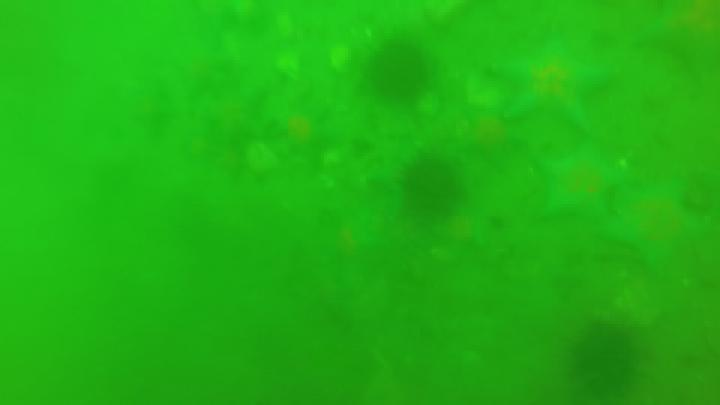echinus: (573, 323, 647, 392), (403, 164, 459, 227), (366, 41, 423, 98)
starfish: (496, 37, 612, 129), (532, 151, 619, 237), (628, 191, 703, 276)
